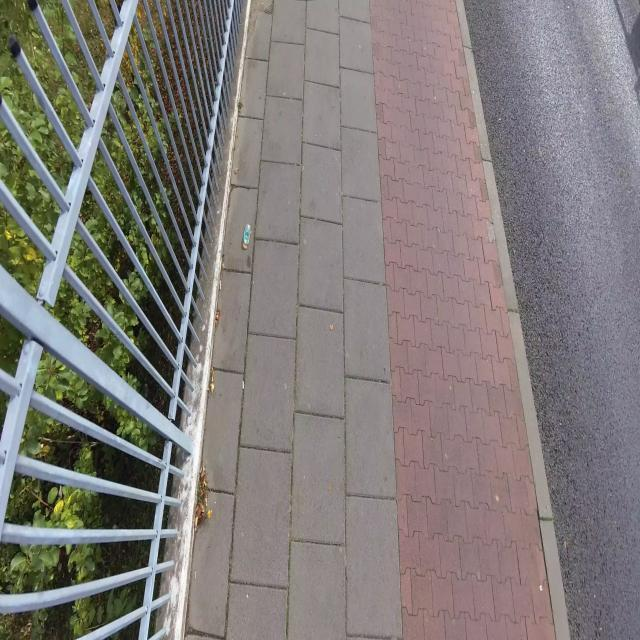rubbish: (242, 224, 250, 251), (219, 280, 222, 291)
